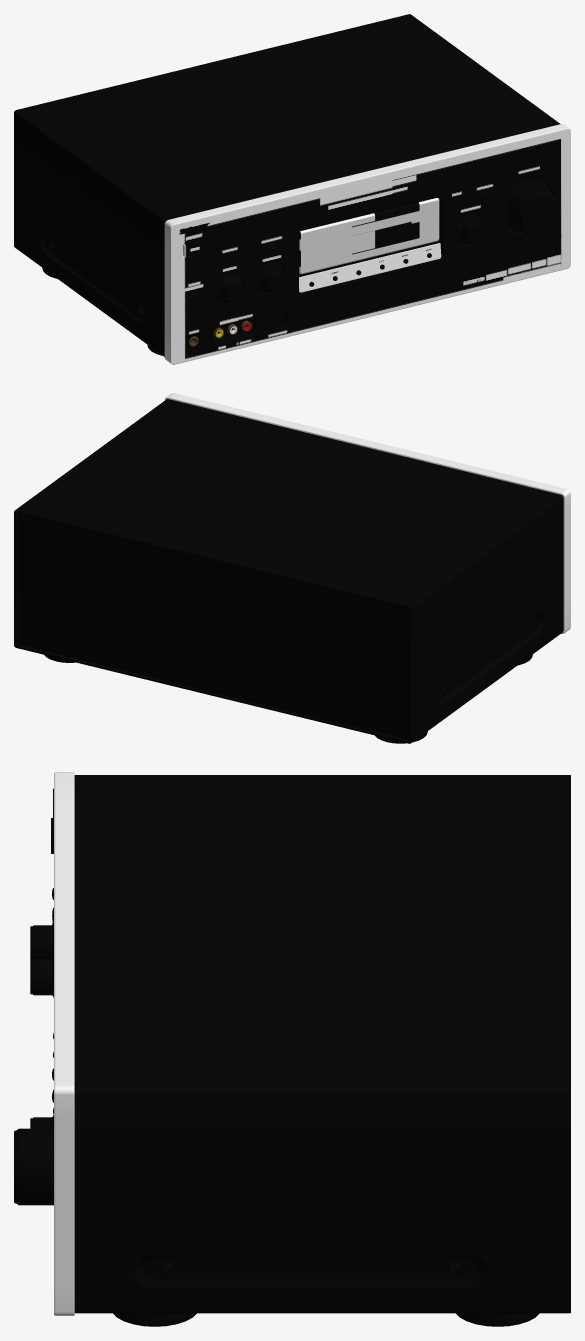
File: DB_Apps&Tech_101.FBX
The picture shows the model from 3 angles, top to bottom: view 1: azimuth 30°, elevation 25°; view 2: azimuth 150°, elevation 25°; view 3: azimuth 270°, elevation 25°; orthographic projection. The views are drawn at different scales.
Visible parts, largest first — view 1: DB_Apps&Tech_101; view 2: DB_Apps&Tech_101; view 3: DB_Apps&Tech_101.
Boxes of the visible parts, box(x1,y1,x2,y2) form: DB_Apps&Tech_101: box(14, 14, 570, 364); DB_Apps&Tech_101: box(14, 393, 570, 743); DB_Apps&Tech_101: box(14, 772, 570, 1326).
Bounding box in the file's own units: 43.03 × 15.6 × 31.76.
12 materials, 3 textured.
